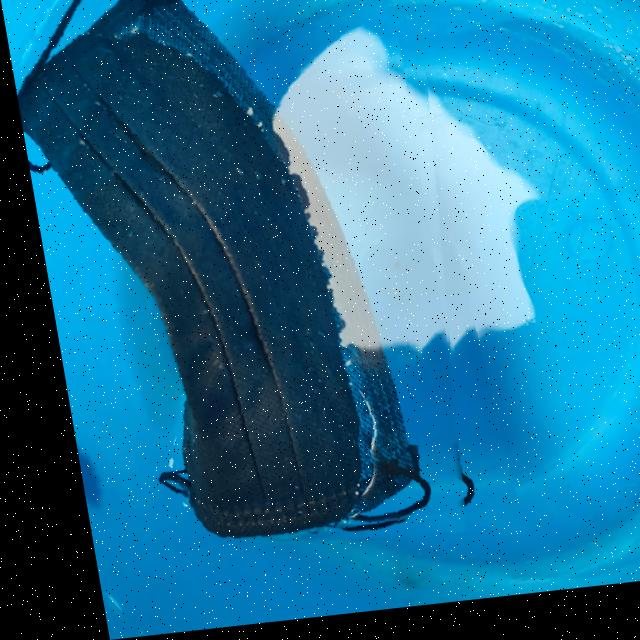litter: (0, 0, 492, 572)
